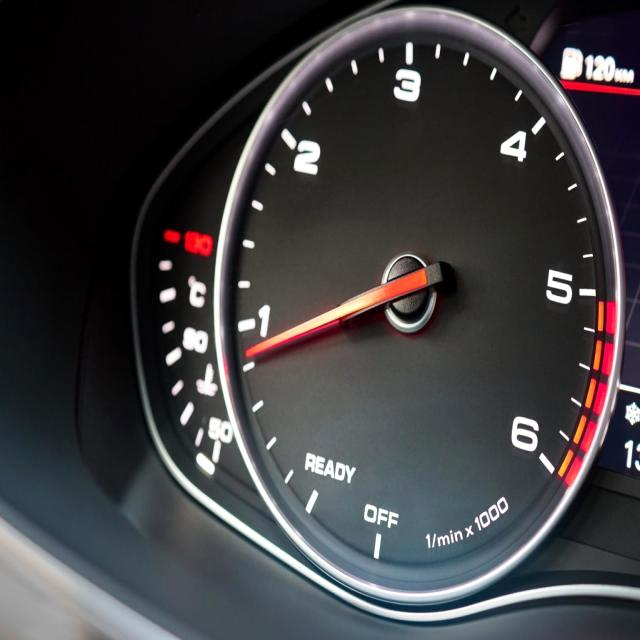Needle_Tip: (233, 335, 283, 385)
Needle_base: (362, 249, 462, 340)
max_value: (497, 394, 548, 471)
min_value: (245, 292, 291, 366)
